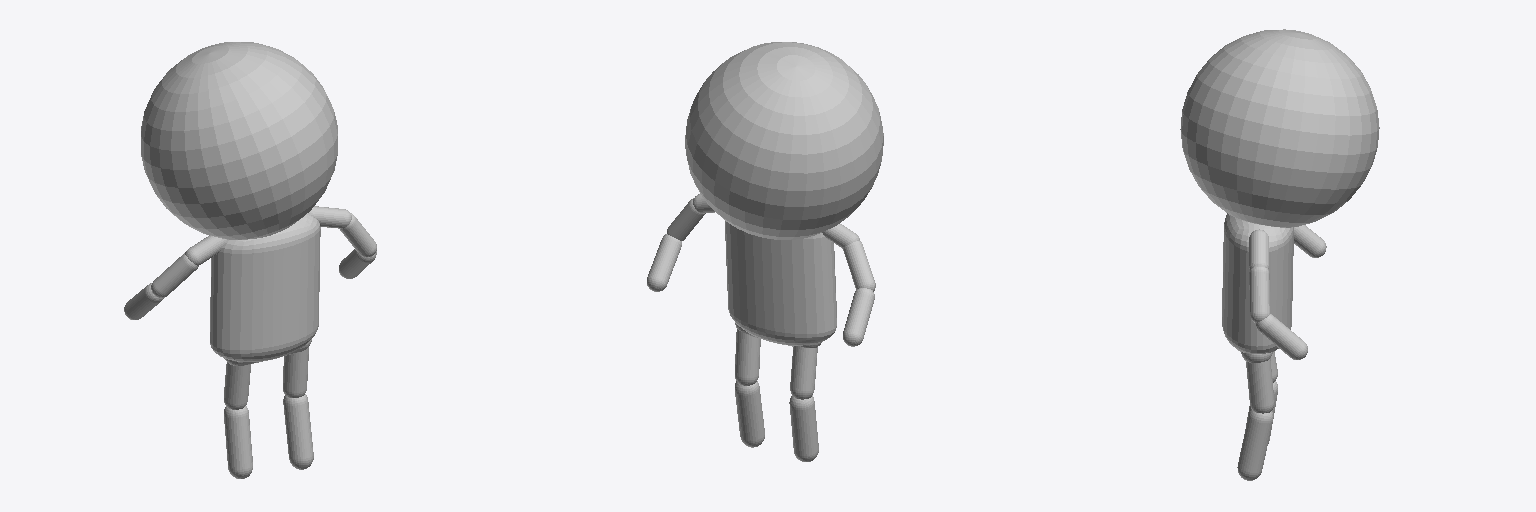
The model's file is Stickman_000075.obj.
3 renders of one model, left to right at view 1: azimuth 30°, elevation 25°; view 2: azimuth 150°, elevation 25°; view 3: azimuth 270°, elevation 25°, orthographic.
Visible parts, largest first — view 1: Head_Sphere.001, Body_Roundcube.002, LowerLegLeft_Roundcube.013, LowerLegRight_Roundcube.011, UpperLegLeft_Roundcube.012, UpperLegRight_Roundcube.010, UpperArmRight_Roundcube.015, UpperArmLeft_Roundcube.018, LowerArmRight_Roundcube.016, ShoulderRight_Roundcube.014, ShoulderLeft_Roundcube.017, LowerArmLeft_Roundcube.019; view 2: Head_Sphere.001, Body_Roundcube.002, LowerLegRight_Roundcube.011, LowerLegLeft_Roundcube.013, UpperLegRight_Roundcube.010, UpperLegLeft_Roundcube.012, LowerArmRight_Roundcube.016, LowerArmLeft_Roundcube.019, UpperArmRight_Roundcube.015, UpperArmLeft_Roundcube.018; view 3: Head_Sphere.001, Body_Roundcube.002, LowerLegLeft_Roundcube.013, UpperLegLeft_Roundcube.012, LowerArmLeft_Roundcube.019, UpperArmLeft_Roundcube.018, LowerArmRight_Roundcube.016, ShoulderLeft_Roundcube.017.
Part boxes in pixels (x1,y1,x2,y2): Head_Sphere.001: (141, 42, 337, 239); Body_Roundcube.002: (210, 213, 320, 361); LowerLegLeft_Roundcube.013: (283, 394, 313, 469); LowerLegRight_Roundcube.011: (224, 406, 252, 478); UpperLegLeft_Roundcube.012: (283, 347, 308, 397); UpperLegRight_Roundcube.010: (224, 362, 250, 409); UpperArmRight_Roundcube.015: (151, 253, 198, 297); UpperArmLeft_Roundcube.018: (340, 213, 376, 257); LowerArmRight_Roundcube.016: (124, 283, 163, 319); ShoulderRight_Roundcube.014: (185, 235, 226, 265); ShoulderLeft_Roundcube.017: (308, 206, 351, 228); LowerArmLeft_Roundcube.019: (339, 249, 376, 278); Head_Sphere.001: (685, 42, 883, 239); Body_Roundcube.002: (725, 221, 836, 345); LowerLegRight_Roundcube.011: (789, 395, 818, 461); LowerLegLeft_Roundcube.013: (735, 381, 764, 447); UpperLegRight_Roundcube.010: (790, 346, 817, 399); UpperLegLeft_Roundcube.012: (735, 329, 760, 385); LowerArmRight_Roundcube.016: (843, 288, 874, 346); LowerArmLeft_Roundcube.019: (647, 234, 681, 291); UpperArmRight_Roundcube.015: (843, 241, 875, 291); UpperArmLeft_Roundcube.018: (667, 198, 705, 240); Head_Sphere.001: (1180, 29, 1379, 227); Body_Roundcube.002: (1222, 213, 1293, 353); LowerLegLeft_Roundcube.013: (1237, 409, 1273, 480); UpperLegLeft_Roundcube.012: (1246, 358, 1274, 413); LowerArmLeft_Roundcube.019: (1256, 314, 1307, 359); UpperArmLeft_Roundcube.018: (1249, 267, 1269, 322); LowerArmRight_Roundcube.016: (1294, 225, 1326, 257); ShoulderLeft_Roundcube.017: (1249, 229, 1268, 268).
Bounding box in the file's own units: 7.32 × 13 × 5.61.